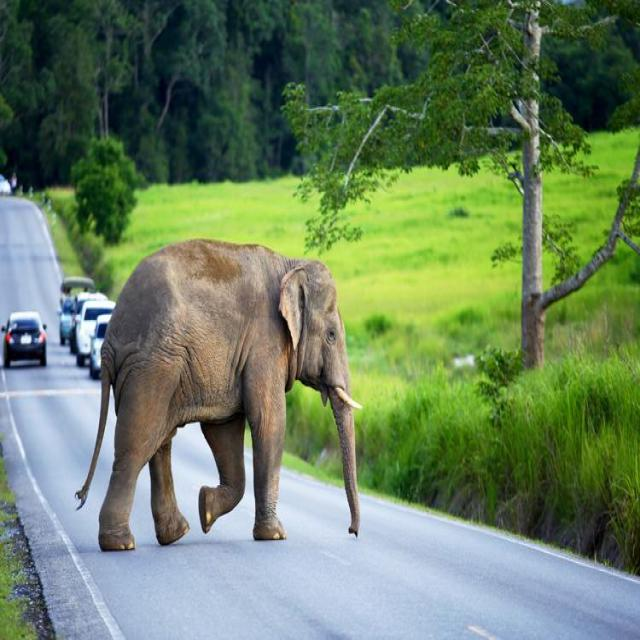Elephant: (68, 223, 370, 551)
